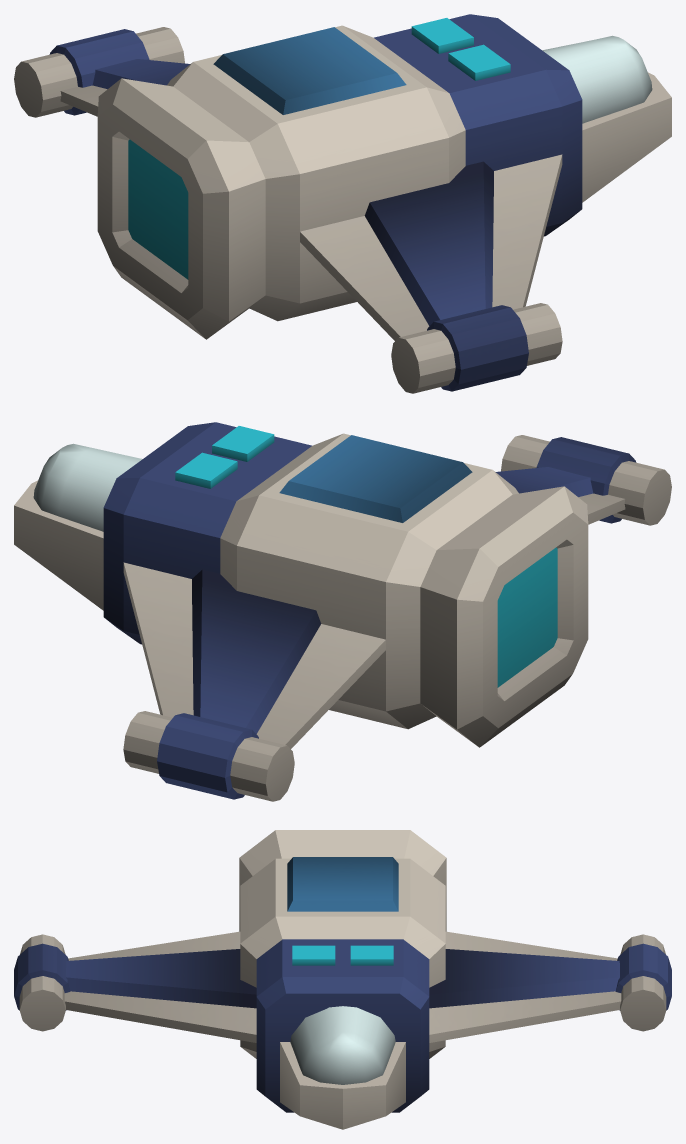
Rendered from Hauler_3.fbx.
3 renders of one model, top to bottom at view 1: azimuth 30°, elevation 25°; view 2: azimuth 150°, elevation 25°; view 3: azimuth 270°, elevation 25°, orthographic. The views are drawn at different scales.
Visible parts, largest first — view 1: Hauler_3; view 2: Hauler_3; view 3: Hauler_3.
Boxes of the visible parts, x1,y1,x2,y2 form: Hauler_3: (14, 14, 671, 393); Hauler_3: (14, 422, 671, 801); Hauler_3: (14, 830, 671, 1129).
Bounding box in the file's own units: 447 × 177 × 635.
Materials: 1 (1 with a texture image).
